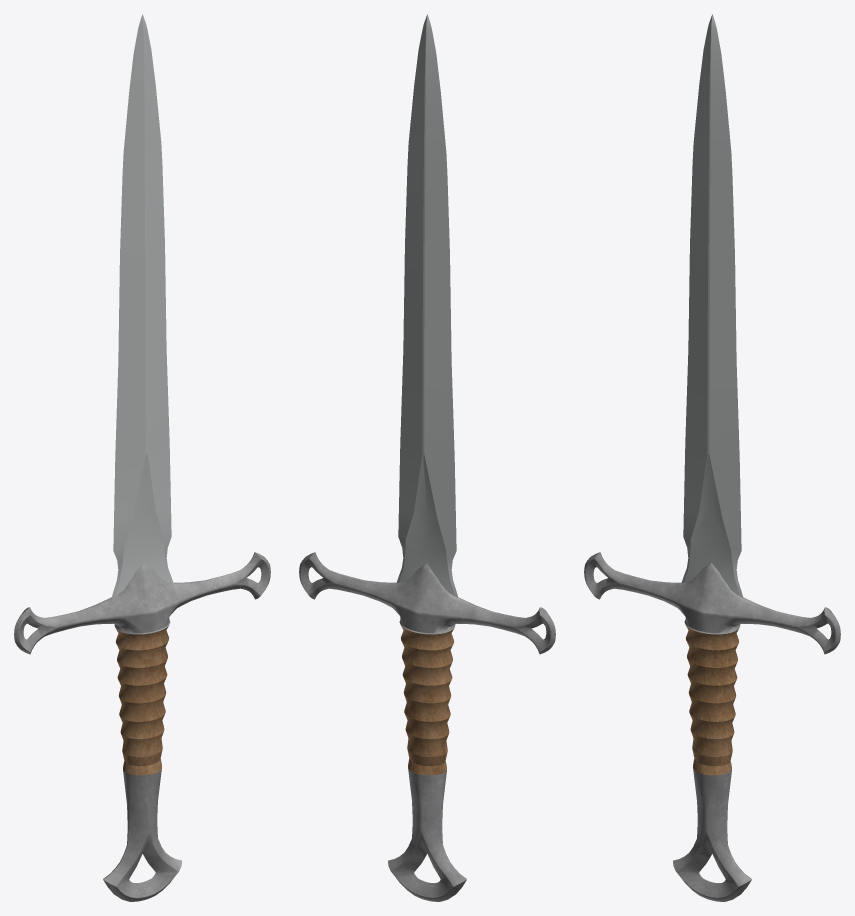
The model's file is dagger.gltf.
The picture shows the model from 3 angles, left to right: view 1: azimuth 30°, elevation 25°; view 2: azimuth 150°, elevation 25°; view 3: azimuth 330°, elevation 25°; orthographic projection.
Parts seen in each view (by area): view 1: Cylinder.002; view 2: Cylinder.002; view 3: Cylinder.002.
Boxes of the visible parts, x1=… form: Cylinder.002: x1=14, y1=14, x2=270, y2=901; Cylinder.002: x1=299, y1=14, x2=555, y2=901; Cylinder.002: x1=584, y1=14, x2=840, y2=901.
Size of the model in its own units: 0.1536 by 0.507 by 0.025.
Materials: 1 (1 with a texture image).
